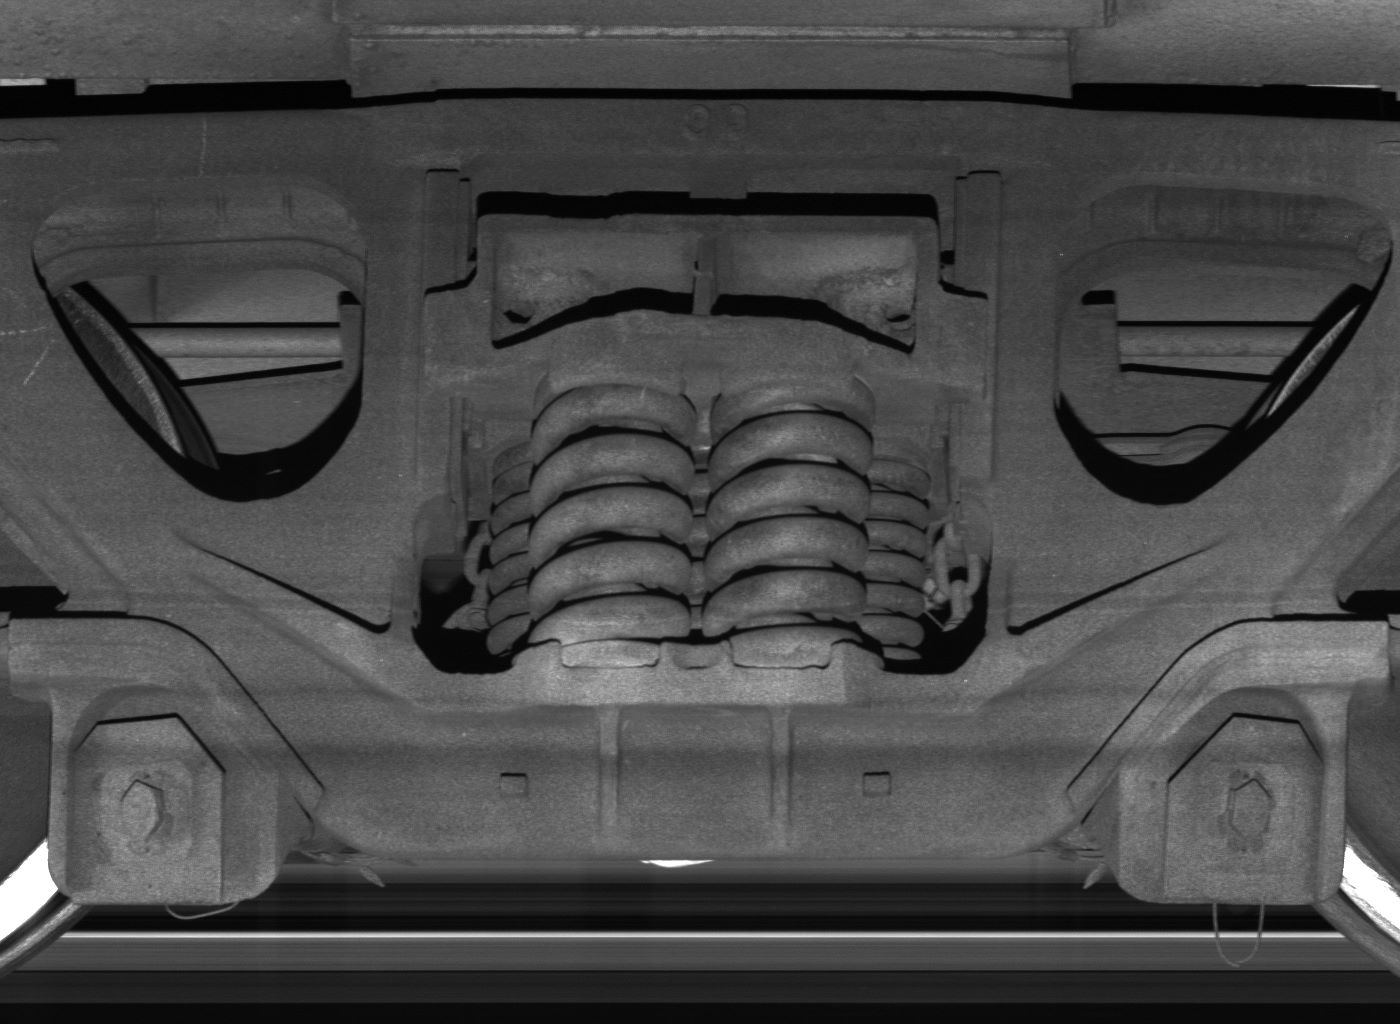normal: (1120, 686, 1348, 908), (48, 685, 276, 906)
